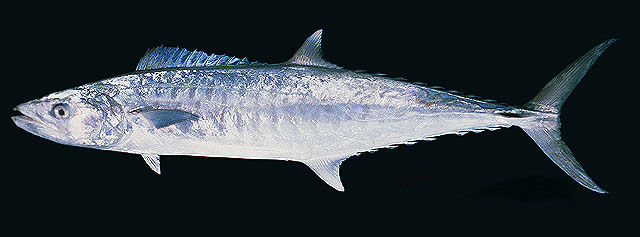fish: (11, 29, 622, 196)
